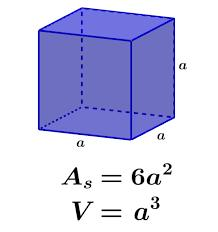cubos: (33, 4, 183, 145)
